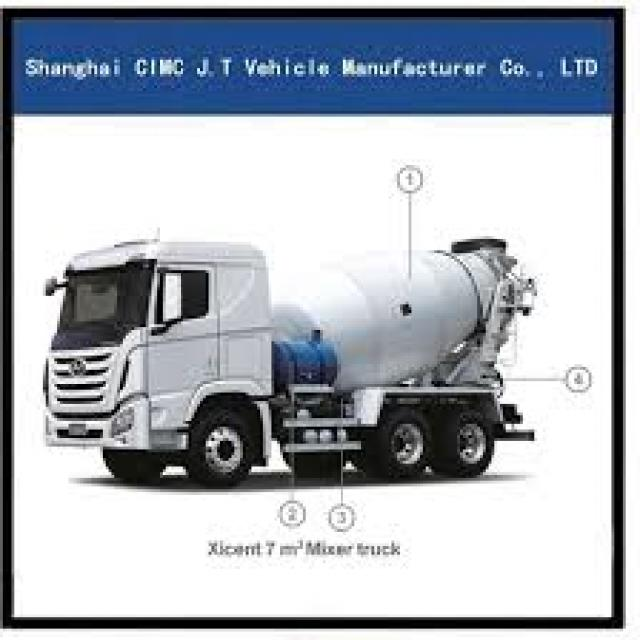Mixer Truck: (38, 230, 538, 488)
